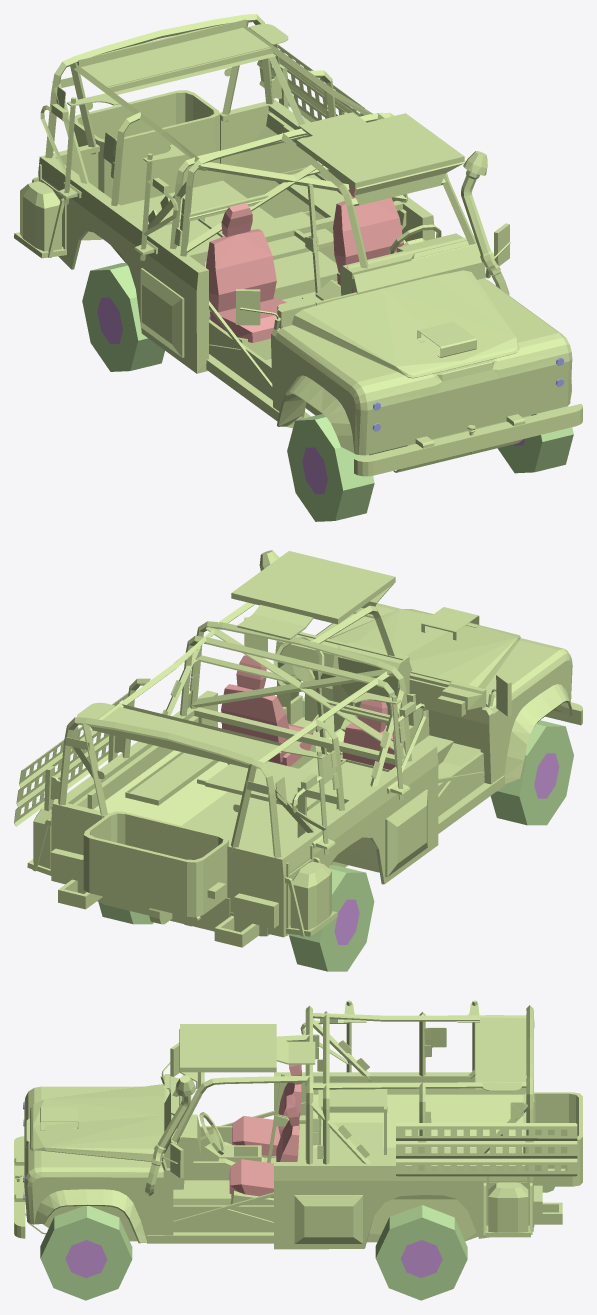
File: land-wheeled-whl-08-default.glb
3 renders of one model, top to bottom at view 1: azimuth 30°, elevation 25°; view 2: azimuth 150°, elevation 25°; view 3: azimuth 270°, elevation 25°, orthographic. The views are drawn at different scales.
Parts seen in each view (by area): view 1: CC_WHL_08_Body, CC_WHL_08_Wheel_FR_1, CC_WHL_08_Wheel_FR_3, CC_WHL_08_Wheel_FR_0; view 2: CC_WHL_08_Body, CC_WHL_08_Wheel_FR_1, CC_WHL_08_Wheel_FR_3, CC_WHL_08_Wheel_FR_2; view 3: CC_WHL_08_Body, CC_WHL_08_Wheel_FR_2, CC_WHL_08_Wheel_FR_0.
Part boxes in pixels (x1,y1,x2,y2): CC_WHL_08_Body: [14, 14, 582, 476]; CC_WHL_08_Wheel_FR_1: [287, 414, 374, 521]; CC_WHL_08_Wheel_FR_3: [82, 263, 164, 371]; CC_WHL_08_Wheel_FR_0: [497, 406, 573, 473]; CC_WHL_08_Body: [14, 550, 582, 947]; CC_WHL_08_Wheel_FR_1: [490, 720, 573, 825]; CC_WHL_08_Wheel_FR_3: [289, 865, 374, 971]; CC_WHL_08_Wheel_FR_2: [98, 902, 153, 924]; CC_WHL_08_Body: [14, 1000, 582, 1249]; CC_WHL_08_Wheel_FR_2: [375, 1205, 467, 1300]; CC_WHL_08_Wheel_FR_0: [40, 1206, 132, 1300].
Size of the model in its own units: 2.39 by 2.15 by 4.96.
